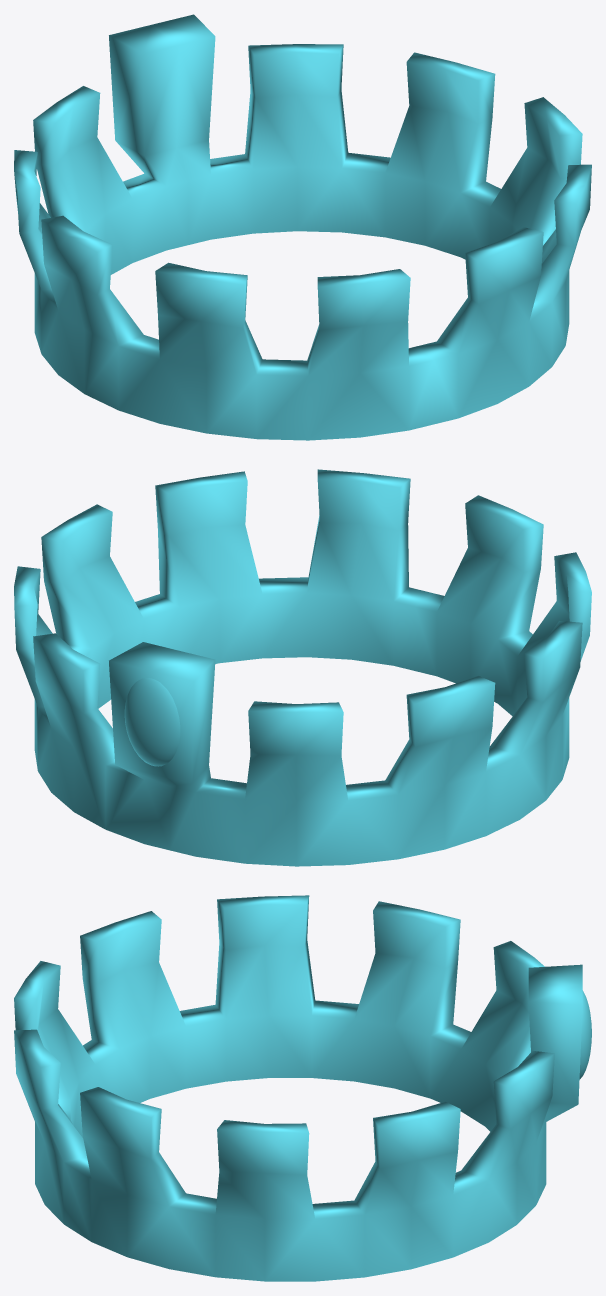
Rendered from Crown.fbx.
The picture shows the model from 3 angles, top to bottom: view 1: azimuth 30°, elevation 25°; view 2: azimuth 150°, elevation 25°; view 3: azimuth 270°, elevation 25°; orthographic projection. The views are drawn at different scales.
Visible parts, largest first — view 1: Crown; view 2: Crown; view 3: Crown.
Part boxes in pixels (x1=…): Crown: x1=14, y1=14, x2=591, y2=440; Crown: x1=14, y1=469, x2=591, y2=866; Crown: x1=14, y1=895, x2=591, y2=1281.
Size of the model in its own units: 109 by 40.23 by 112.
